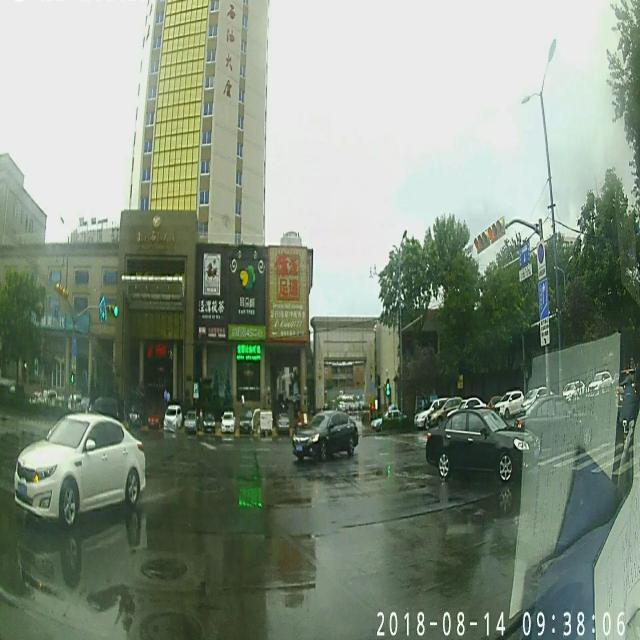car: (12, 416, 148, 525), (427, 407, 539, 489), (292, 414, 358, 460)
